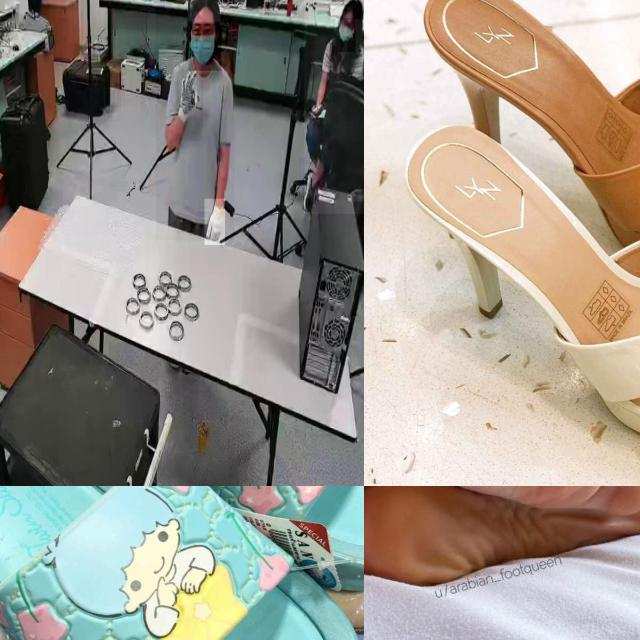Barefoots: (364, 486, 640, 521)
Sandals: (377, 111, 640, 451), (394, 0, 640, 269), (0, 486, 364, 640)
face_mask: (190, 24, 222, 70), (340, 18, 356, 52)
hand_glove: (175, 70, 203, 141), (204, 198, 226, 246)
head_nohelmet: (188, 0, 221, 22), (341, 0, 364, 20)
person: (156, 0, 235, 241), (304, 0, 364, 215)
